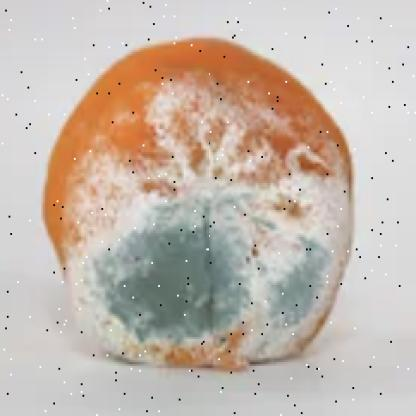rotten: (47, 39, 355, 370)
